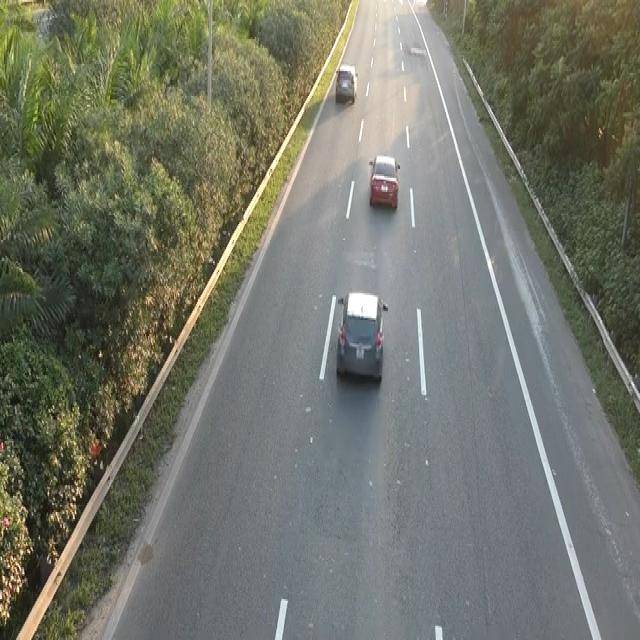bus: (334, 286, 388, 382), (367, 151, 400, 210), (334, 62, 357, 103)
